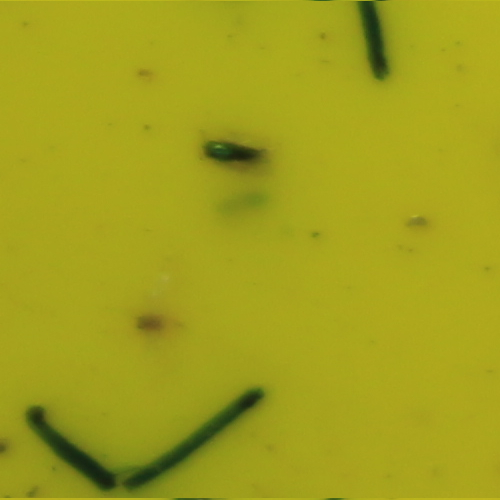psylla: (134, 309, 167, 333)
wasp: (197, 138, 268, 165)
